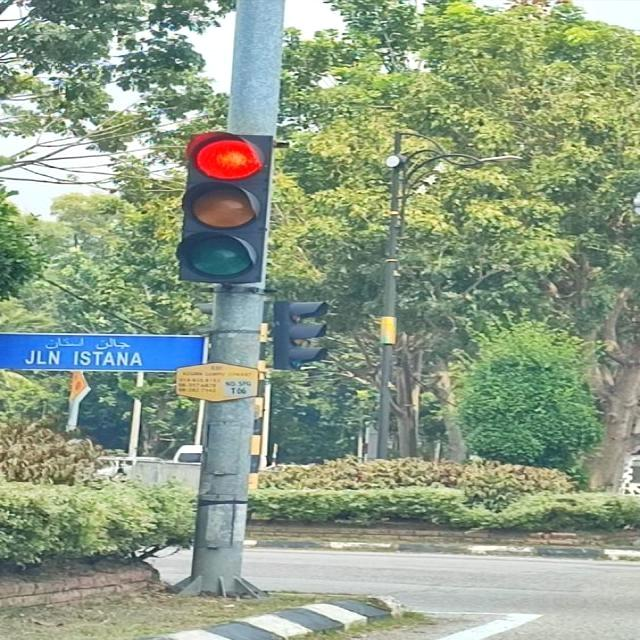Red: (176, 130, 272, 283)
